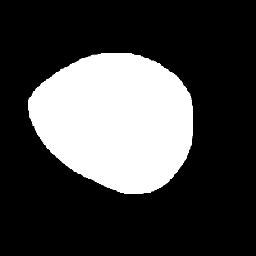mass: (26, 51, 195, 194)
